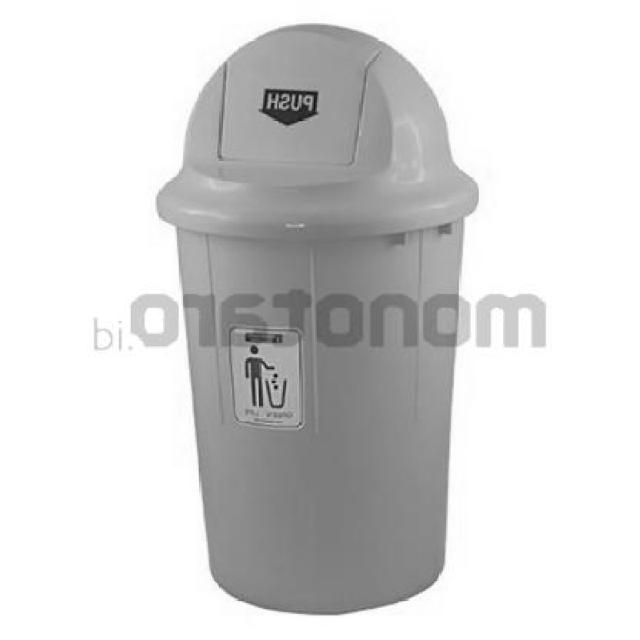garbage container: (140, 11, 508, 634)
